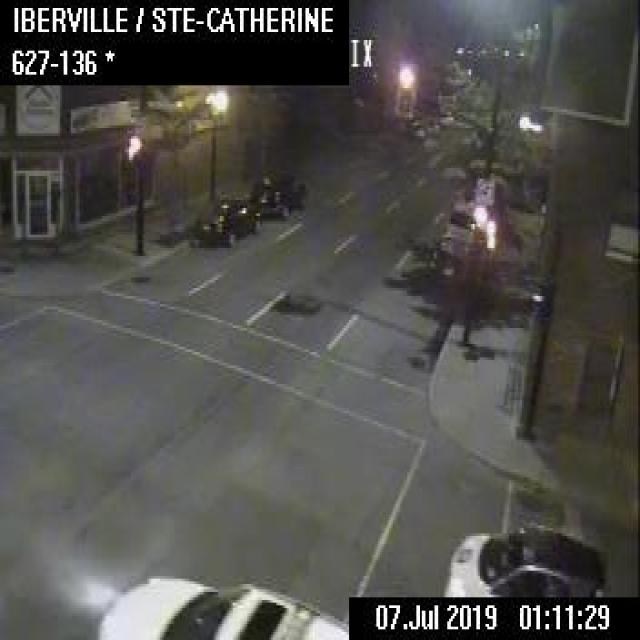vehicle: (95, 571, 347, 637), (440, 522, 611, 594), (193, 188, 261, 245), (250, 167, 306, 215), (436, 194, 474, 256)
